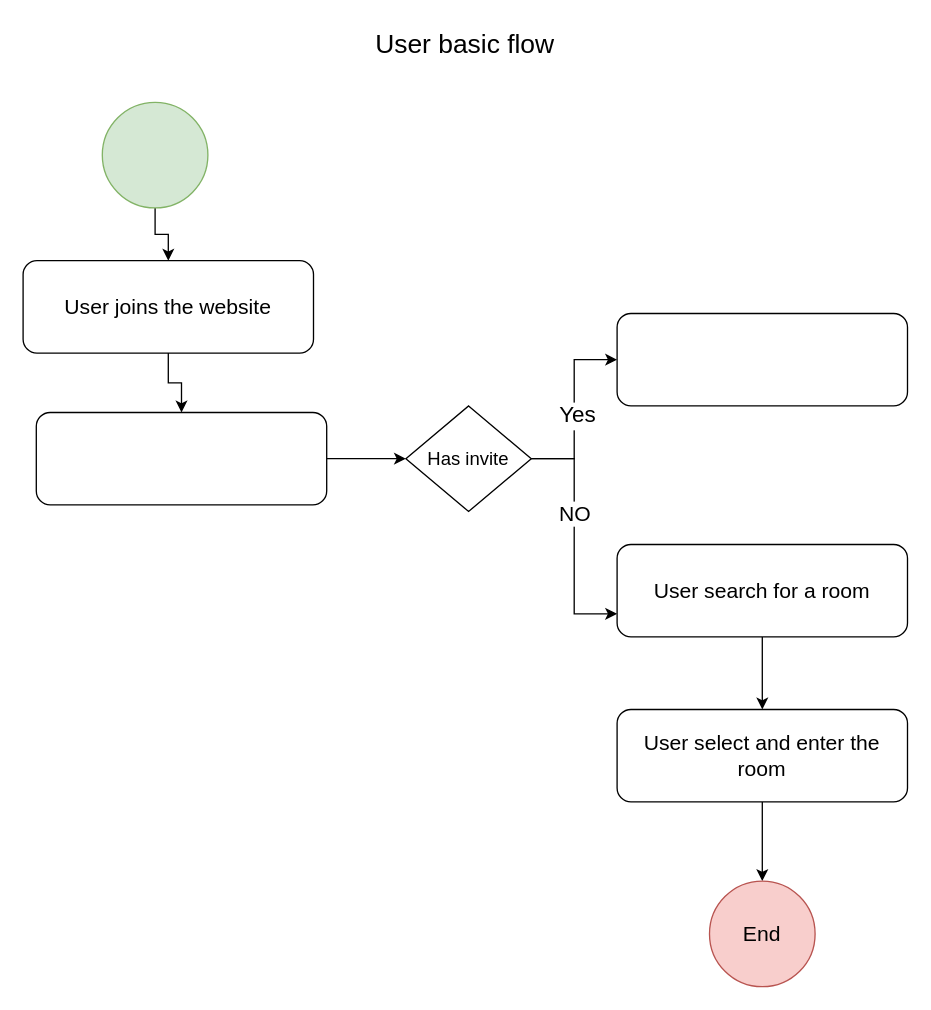
Some shapes in this 931 by 1010 pixel diagram are drawn without their labels. Here are the shapes that lost their labels. From the top down, the centre of each, then its label:
At (x=154, y=154): "Start".
At (x=762, y=359): "Join the room with the invite".
At (x=181, y=458): "User set his nickname".
